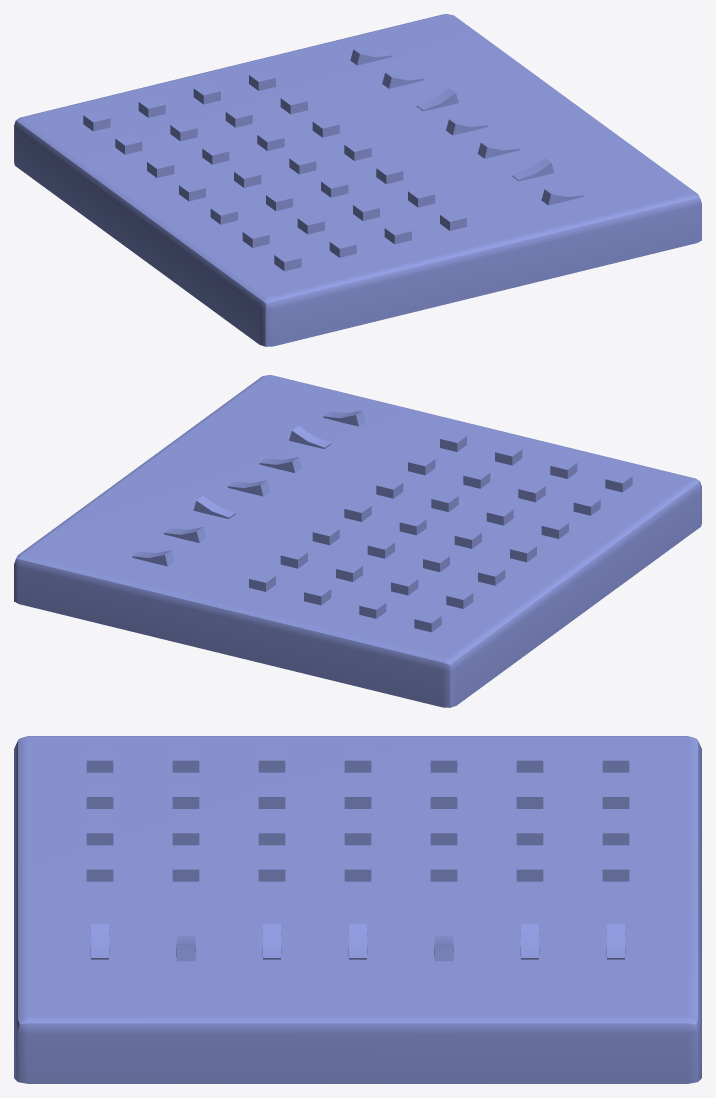
The model's file is Lights_Panel_2.fbx.
3 renders of one model, top to bottom at view 1: azimuth 30°, elevation 25°; view 2: azimuth 150°, elevation 25°; view 3: azimuth 270°, elevation 25°, orthographic. The views are drawn at different scales.
Visible parts, largest first — view 1: light_panel_base1; view 2: light_panel_base1; view 3: light_panel_base1, light_switch_7, light_switch_6, light_switch_4, light_switch_3, light_switch_1, light_v2_59, light_v2_58, light_v2_57, light_v2_56, light_v2_55, light_v2_54 (+22 smaller).
Boxes of the visible parts, bbox=[...] form: light_panel_base1: bbox=[14, 14, 701, 346]; light_panel_base1: bbox=[14, 375, 701, 707]; light_panel_base1: bbox=[14, 736, 701, 1083]; light_switch_7: bbox=[606, 923, 625, 959]; light_switch_6: bbox=[520, 923, 539, 959]; light_switch_4: bbox=[348, 923, 367, 959]; light_switch_3: bbox=[262, 923, 281, 959]; light_switch_1: bbox=[90, 923, 109, 959]; light_v2_59: bbox=[86, 858, 113, 881]; light_v2_58: bbox=[172, 858, 199, 881]; light_v2_57: bbox=[258, 858, 285, 881]; light_v2_56: bbox=[344, 858, 371, 881]; light_v2_55: bbox=[430, 858, 457, 881]; light_v2_54: bbox=[516, 858, 543, 881].
Size of the model in its own units: 0.5 by 0.0616 by 0.5.
